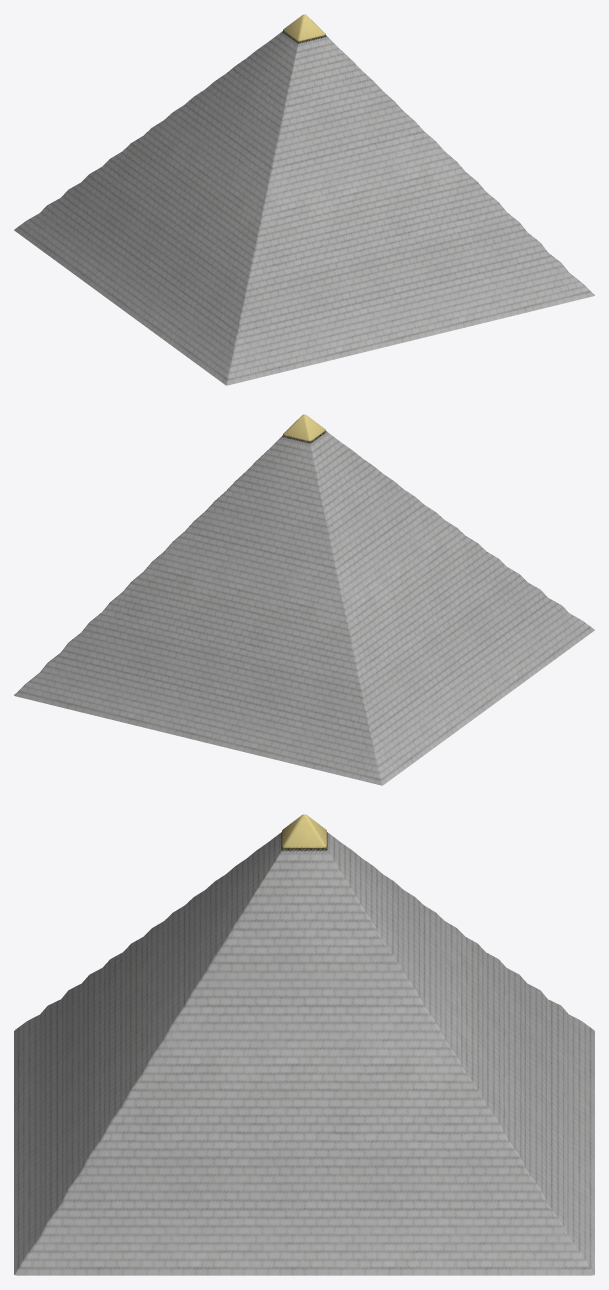
The model's file is 01_Pyramid_Perfect.glb.
The picture shows the model from 3 angles, top to bottom: view 1: azimuth 30°, elevation 25°; view 2: azimuth 150°, elevation 25°; view 3: azimuth 270°, elevation 25°; orthographic projection. The views are drawn at different scales.
Parts seen in each view (by area): view 1: Pyramid_Perfect_baseMesh; view 2: Pyramid_Perfect_baseMesh; view 3: Pyramid_Perfect_baseMesh.
Part boxes in pixels (left/top/right/bottom): Pyramid_Perfect_baseMesh: left=14, top=14, right=594, bottom=385; Pyramid_Perfect_baseMesh: left=14, top=414, right=594, bottom=785; Pyramid_Perfect_baseMesh: left=14, top=814, right=594, bottom=1275.
Bounding box in the file's own units: 441 × 284 × 441.
2 materials, 2 textured.
